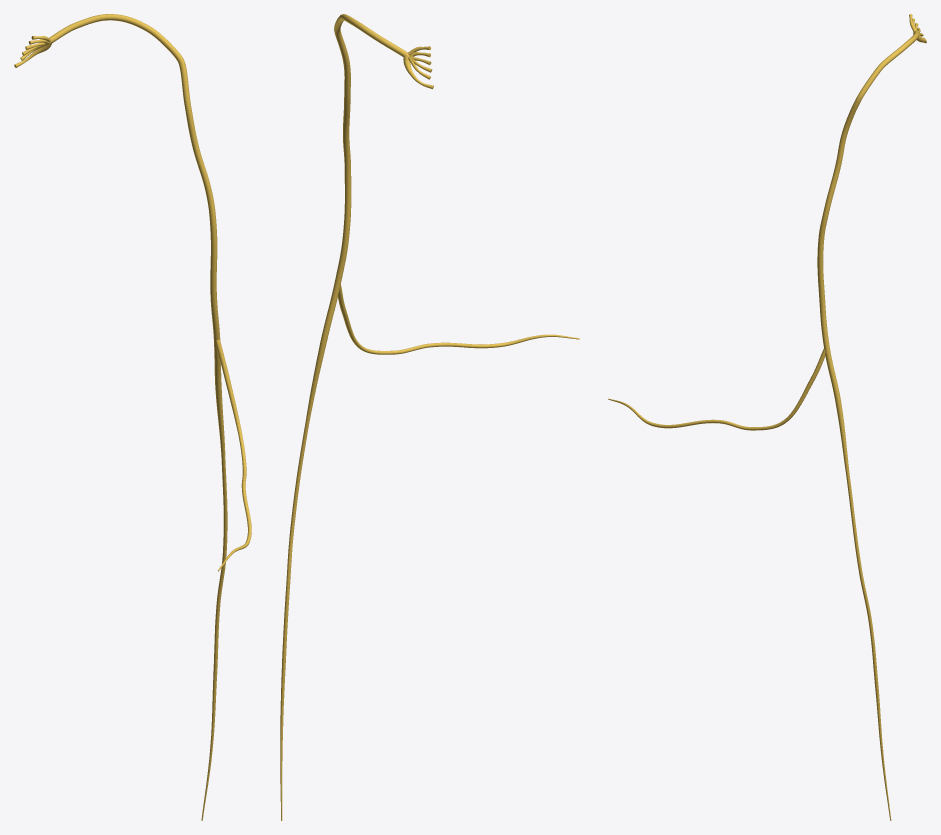
The model's file is Glossopharyngeal_nerve_IX_left.glb.
3 views of the same model, side by side, from view 1: azimuth 30°, elevation 25°; view 2: azimuth 150°, elevation 25°; view 3: azimuth 270°, elevation 25° (orthographic). The views are drawn at different scales.
Visible parts, largest first — view 1: Glossopharyngeal_nerve_(IX).l_BezierCurve.525; view 2: Glossopharyngeal_nerve_(IX).l_BezierCurve.525; view 3: Glossopharyngeal_nerve_(IX).l_BezierCurve.525.
Part boxes in pixels (x1,y1,x2,y2): Glossopharyngeal_nerve_(IX).l_BezierCurve.525: (14, 14, 251, 820); Glossopharyngeal_nerve_(IX).l_BezierCurve.525: (280, 14, 579, 820); Glossopharyngeal_nerve_(IX).l_BezierCurve.525: (608, 14, 926, 820).
Size of the model in its own units: 0.0317 by 0.1408 by 0.0549.
